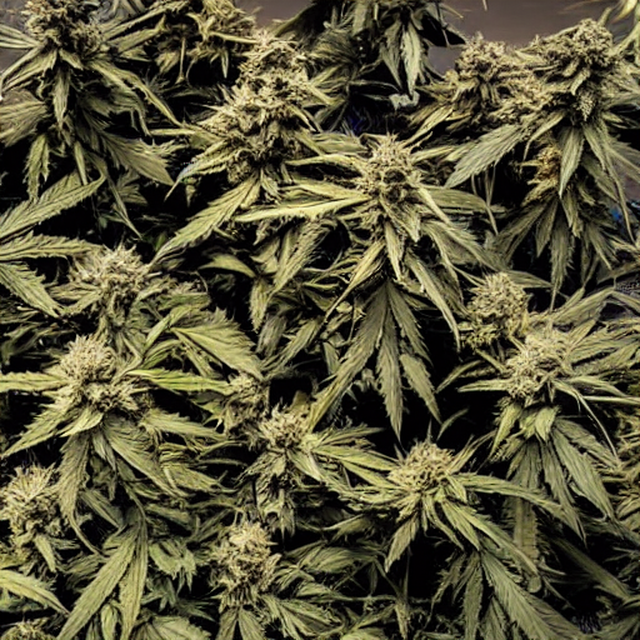Marijuana Joint: (124, 96, 587, 517)
